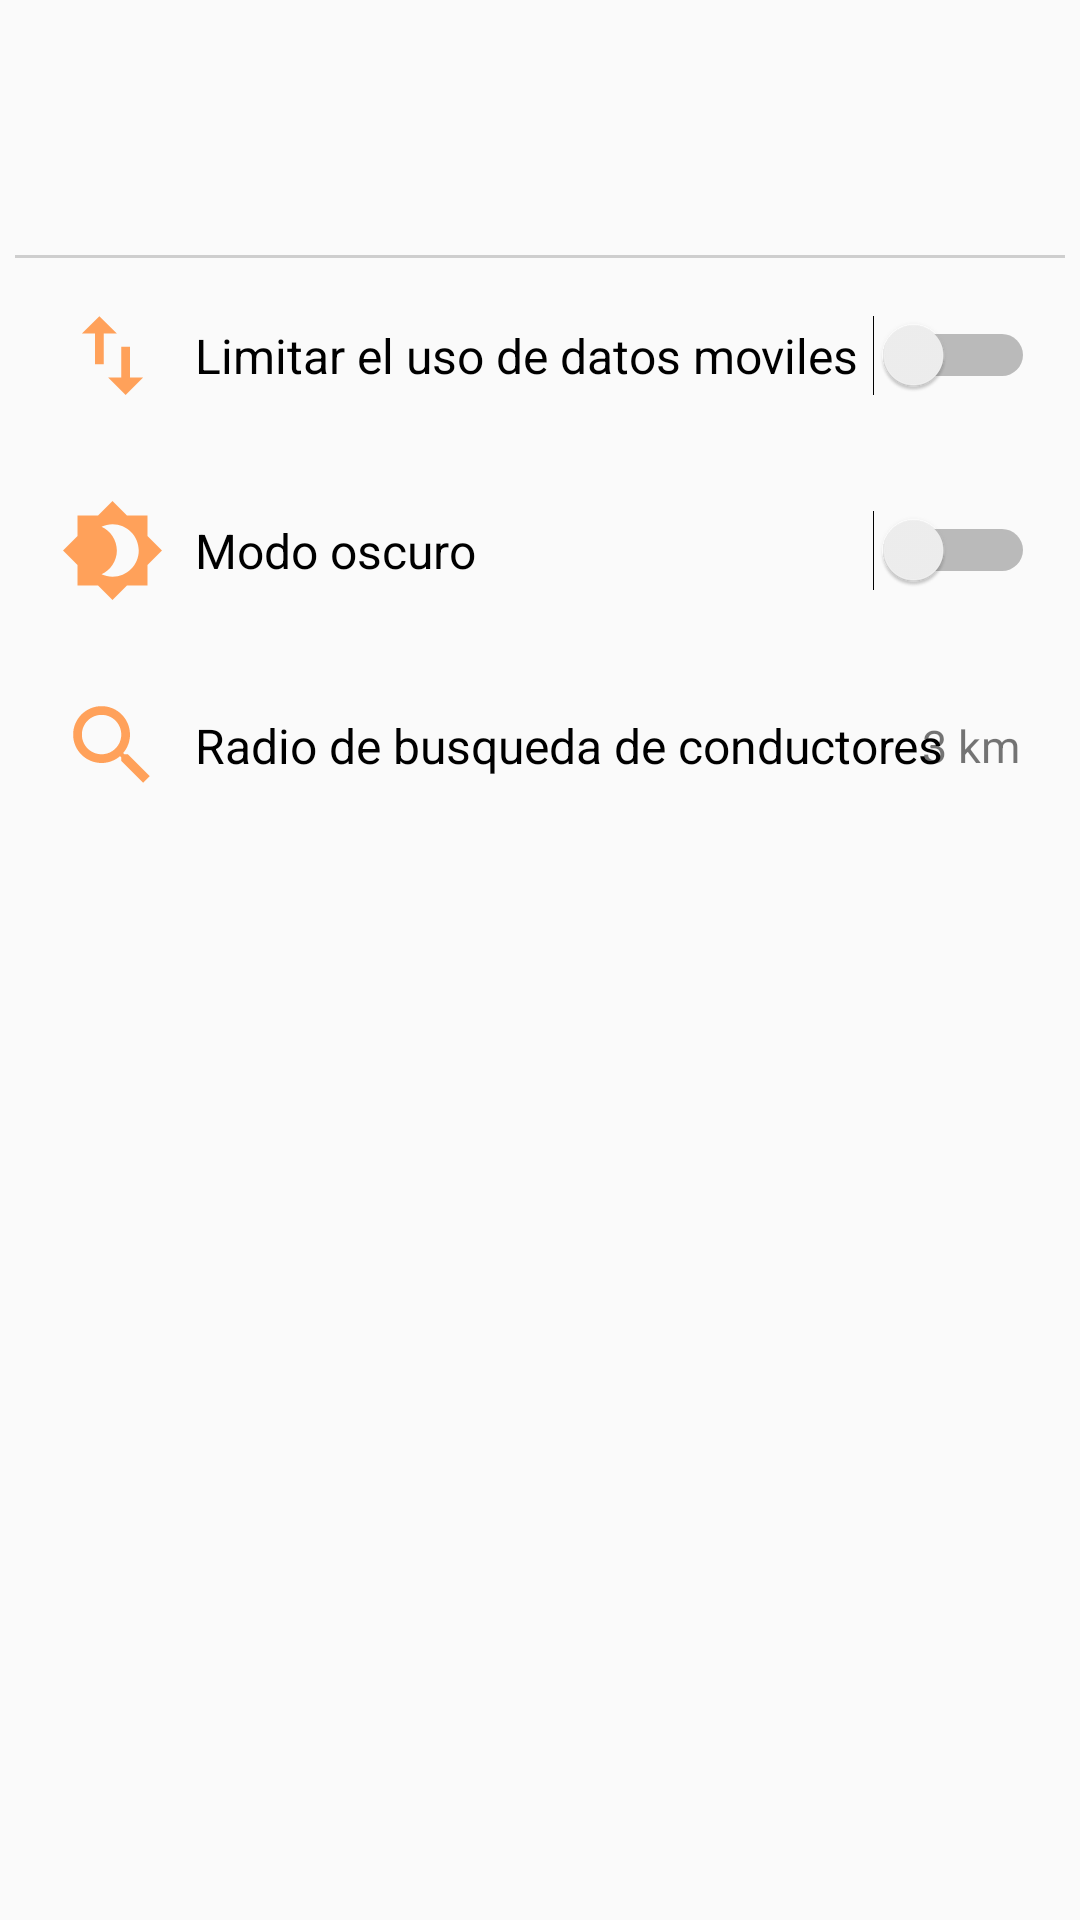

Where to tap for icons on this 1080x1920 app screen, as point (x, y):
brightness: point (112, 550)
import export: point (112, 355)
search: point (111, 744)
